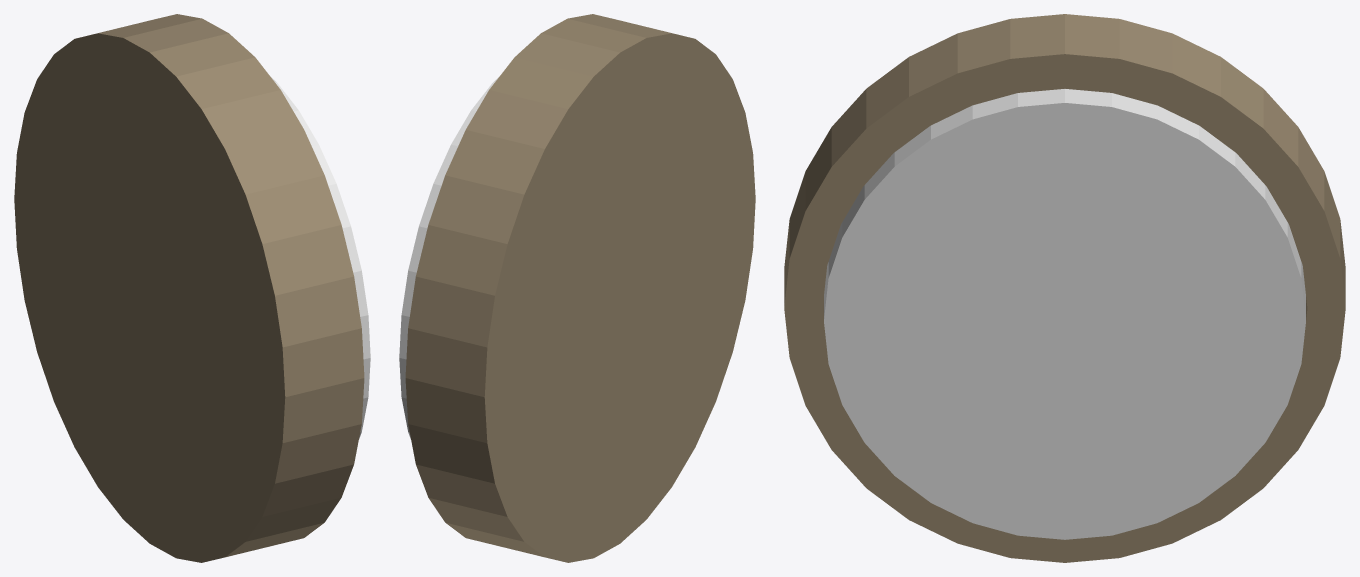
The model's file is NavCompass.fbx.
3 renders of one model, left to right at view 1: azimuth 30°, elevation 25°; view 2: azimuth 150°, elevation 25°; view 3: azimuth 270°, elevation 25°, orthographic. The views are drawn at different scales.
Parts seen in each view (by area): view 1: Circle, Circle.001; view 2: Circle, Circle.001; view 3: Circle.001, Circle.
Part boxes in pixels (box(x1,y1,x2,y2)): Circle: box(14, 14, 364, 562); Circle.001: box(270, 76, 370, 438); Circle: box(405, 14, 755, 562); Circle.001: box(399, 76, 499, 438); Circle.001: box(824, 89, 1305, 539); Circle: box(784, 14, 1345, 562).
Size of the model in its own units: 314 by 70.1 by 314.
